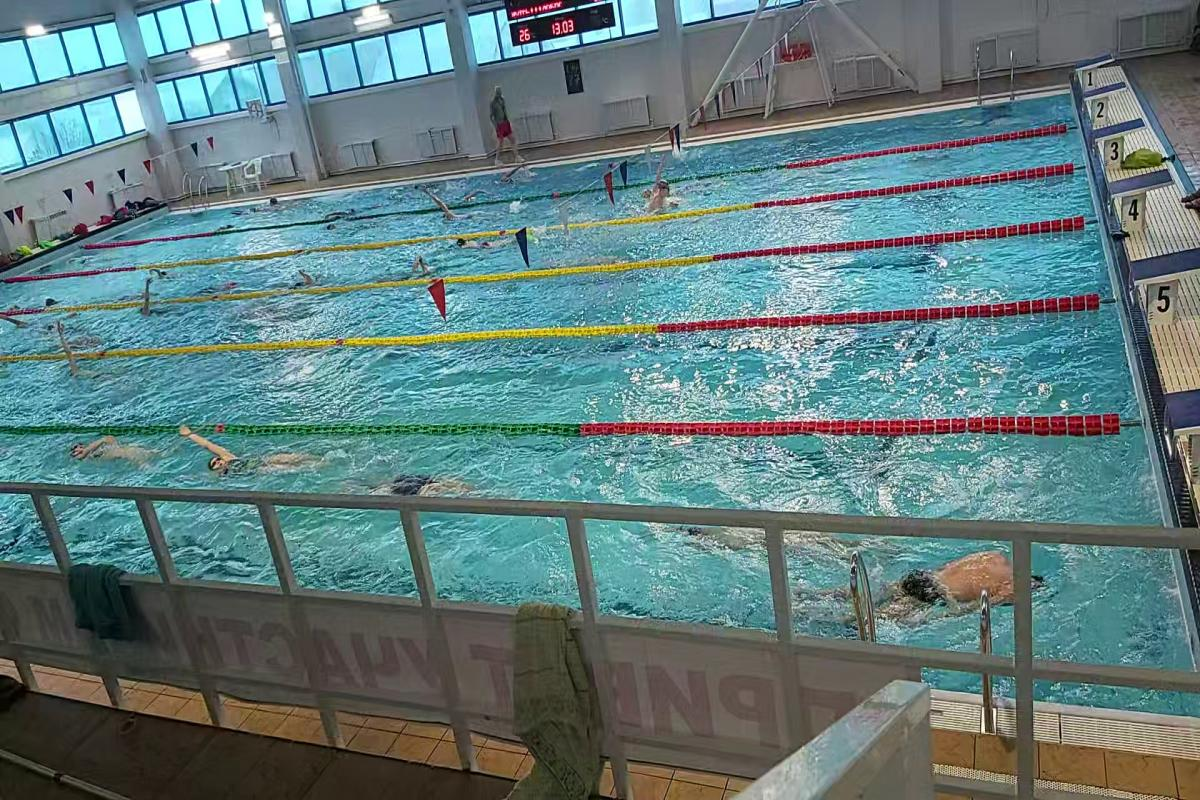swimmer: (798, 544, 1013, 624), (169, 427, 322, 482), (665, 501, 855, 541), (48, 324, 126, 384), (350, 465, 483, 495), (70, 431, 162, 470), (430, 198, 480, 224), (644, 176, 678, 214), (400, 252, 439, 280), (139, 288, 169, 319), (453, 237, 503, 255), (281, 268, 333, 285)
